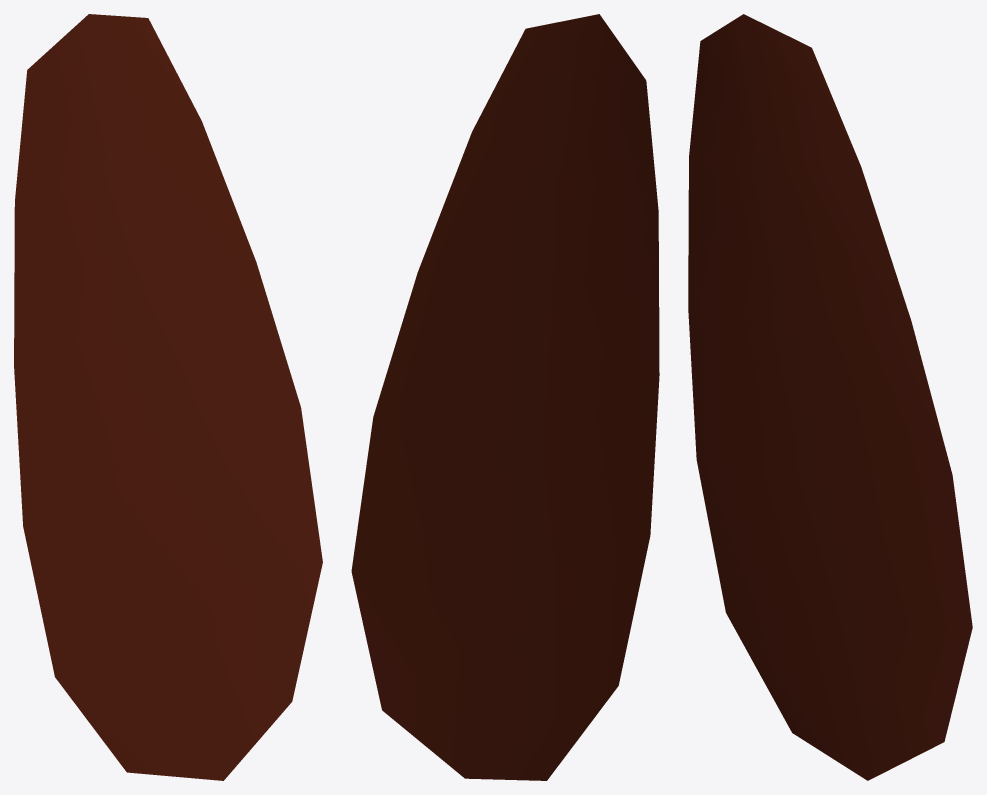
Rendered from finch_feather_flight_tertiary_016.obj.
3 views of the same model, side by side, from view 1: azimuth 30°, elevation 25°; view 2: azimuth 150°, elevation 25°; view 3: azimuth 330°, elevation 25° (orthographic). The views are drawn at different scales.
Parts seen in each view (by area): view 1: feather_flight_tertiary_016; view 2: feather_flight_tertiary_016; view 3: feather_flight_tertiary_016.
Part boxes in pixels (left/top/right/bottom): feather_flight_tertiary_016: left=14, top=14, right=322, bottom=780; feather_flight_tertiary_016: left=351, top=14, right=659, bottom=780; feather_flight_tertiary_016: left=688, top=14, right=972, bottom=780.
Bounding box in the file's own units: 0.0037 × 0.00915 × 0.000152.
